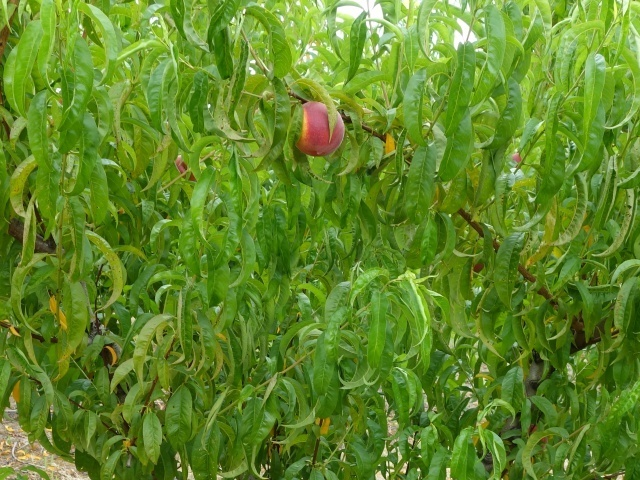peach: (289, 97, 350, 160)
